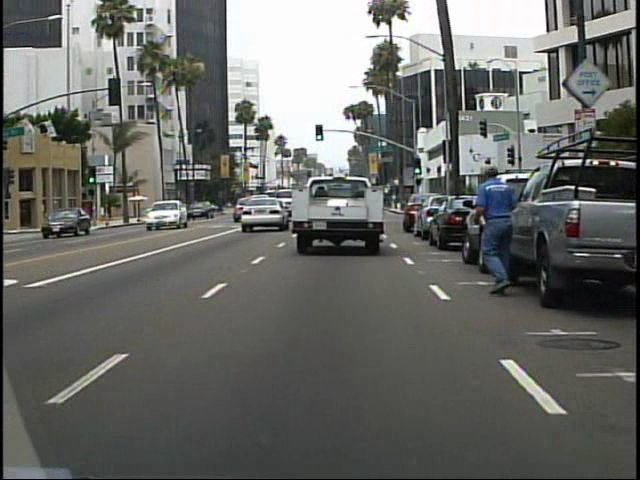person: (468, 161, 518, 296)
